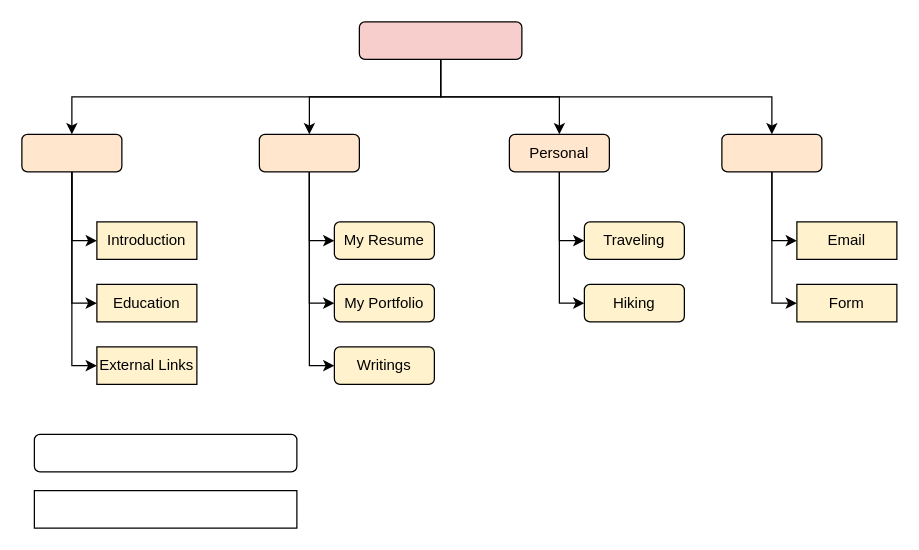
Image size: 919x550. Some labels were removed from this diagram. Here are the shapes that lost their labels. From the top down, the box of each, then its label:
(358, 21, 522, 59): HOME
(21, 133, 122, 172): About Me
(258, 133, 359, 172): Professional
(721, 133, 822, 172): Contact Me
(33, 433, 297, 472): Rounded Corner: Separate Page
(33, 489, 297, 528): Sharp Corner: Separate Section
